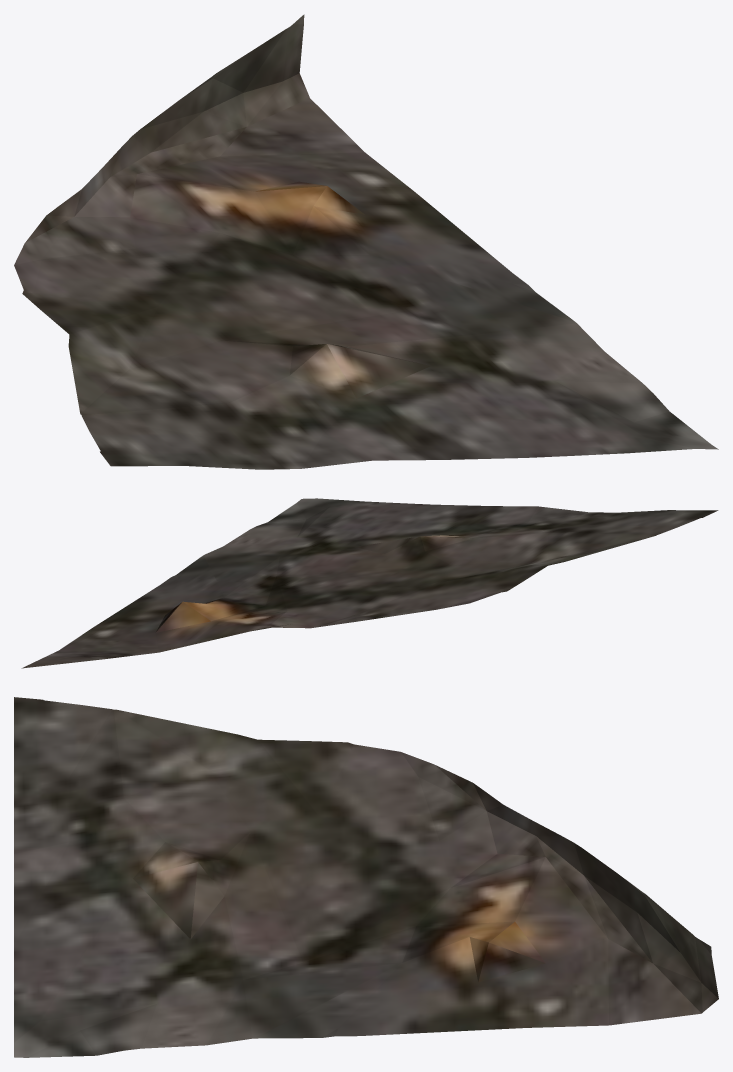
3 views of the same model, one above another, from view 1: azimuth 30°, elevation 25°; view 2: azimuth 150°, elevation 25°; view 3: azimuth 270°, elevation 25° (orthographic). The views are drawn at different scales.
Size of the model in its own units: 0.4004 by 0.0832 by 0.478.
Materials: 1 (1 with a texture image).
